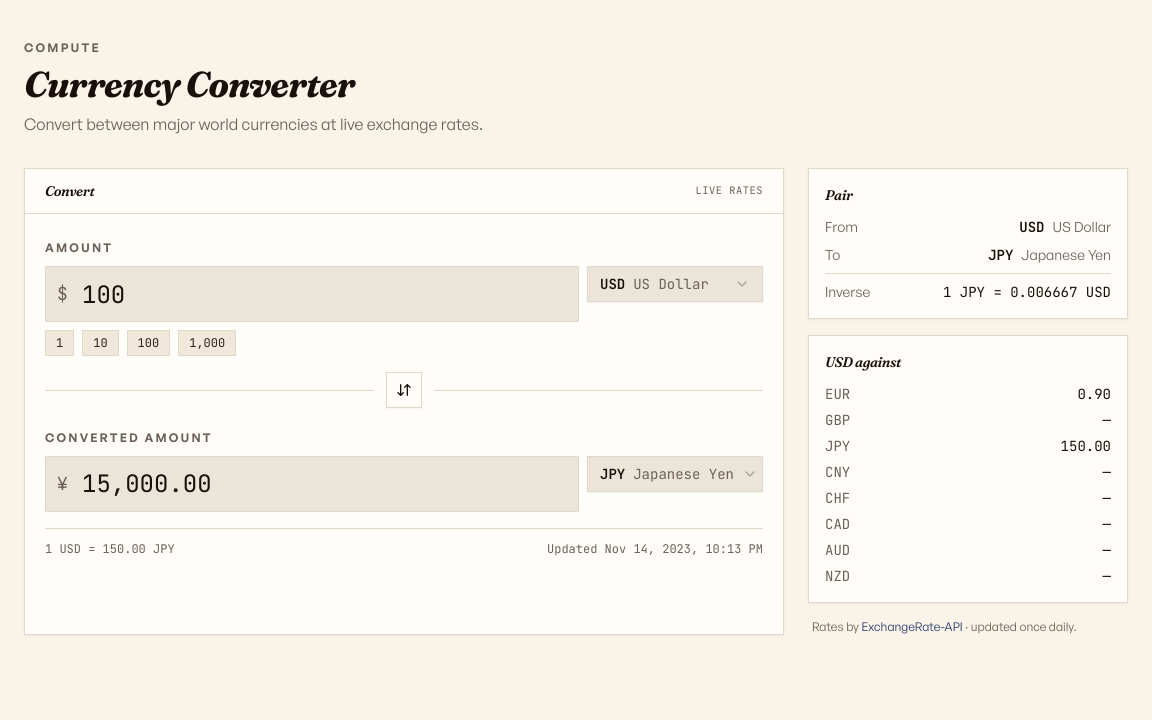
Test: CurrencyPage › swaps the from and to currencies
Expected: the text "1 USD = 150.00 JPY" is shown, [45,541,175,557]
Click the button named "Swap currencies" at [404, 390], box [386,372,422,408]
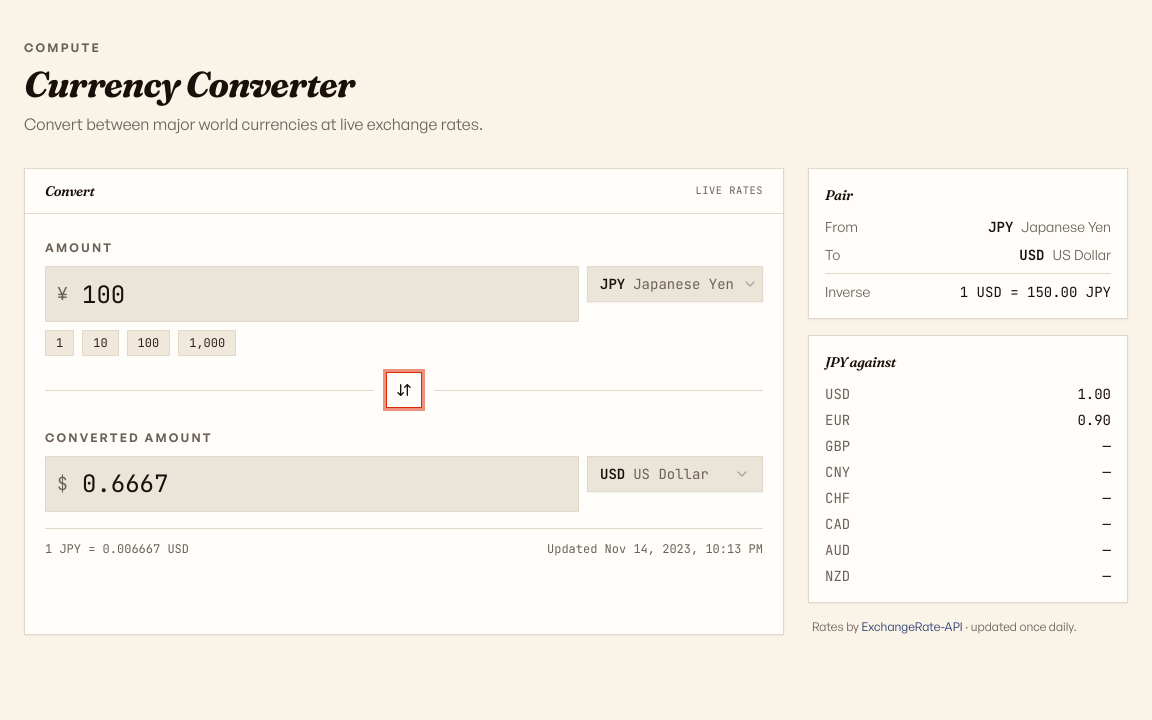
Result: the text "1 JPY = 0.006667 USD" is shown at [45,541,189,557]
